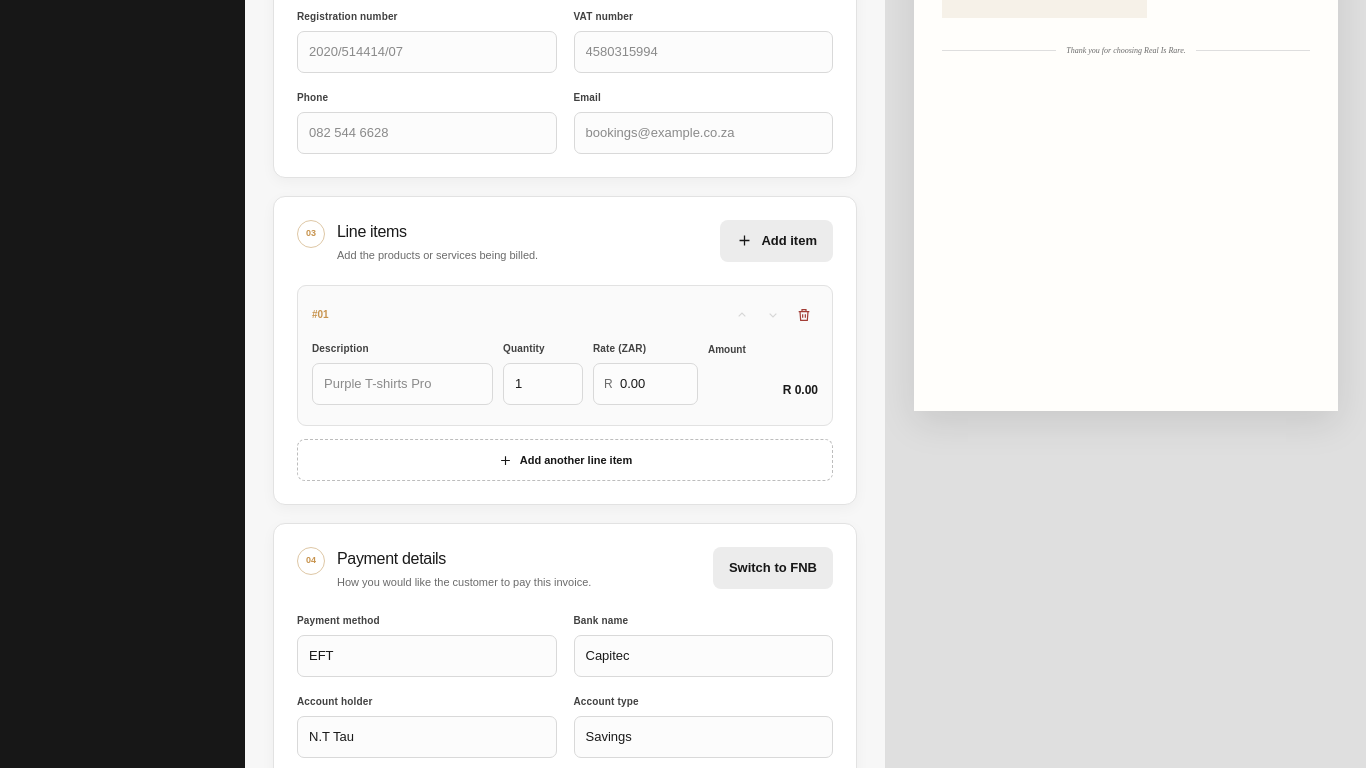
Test: invoice workspace › lets a rate be typed before formatting it as currency
The width and height of the screenshot is (1366, 768).
(page scrolled)
Replace the text in the number field labelled "Rate (ZAR) R" with "2" at coordinates (646, 384), box top-left (593, 363), bottom-right (698, 405)
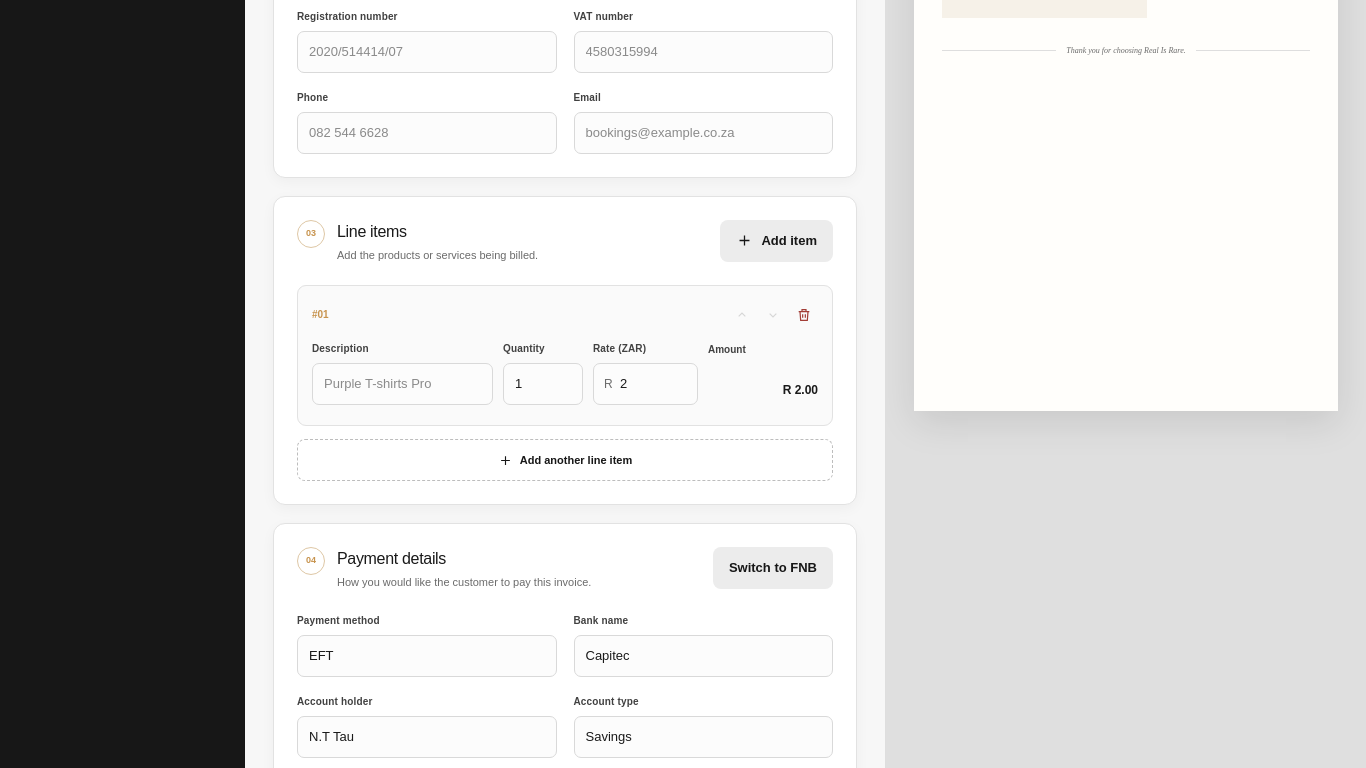
Replace the text in the number field labelled "Rate (ZAR) R" with "20" at coordinates (646, 384), box top-left (593, 363), bottom-right (698, 405)
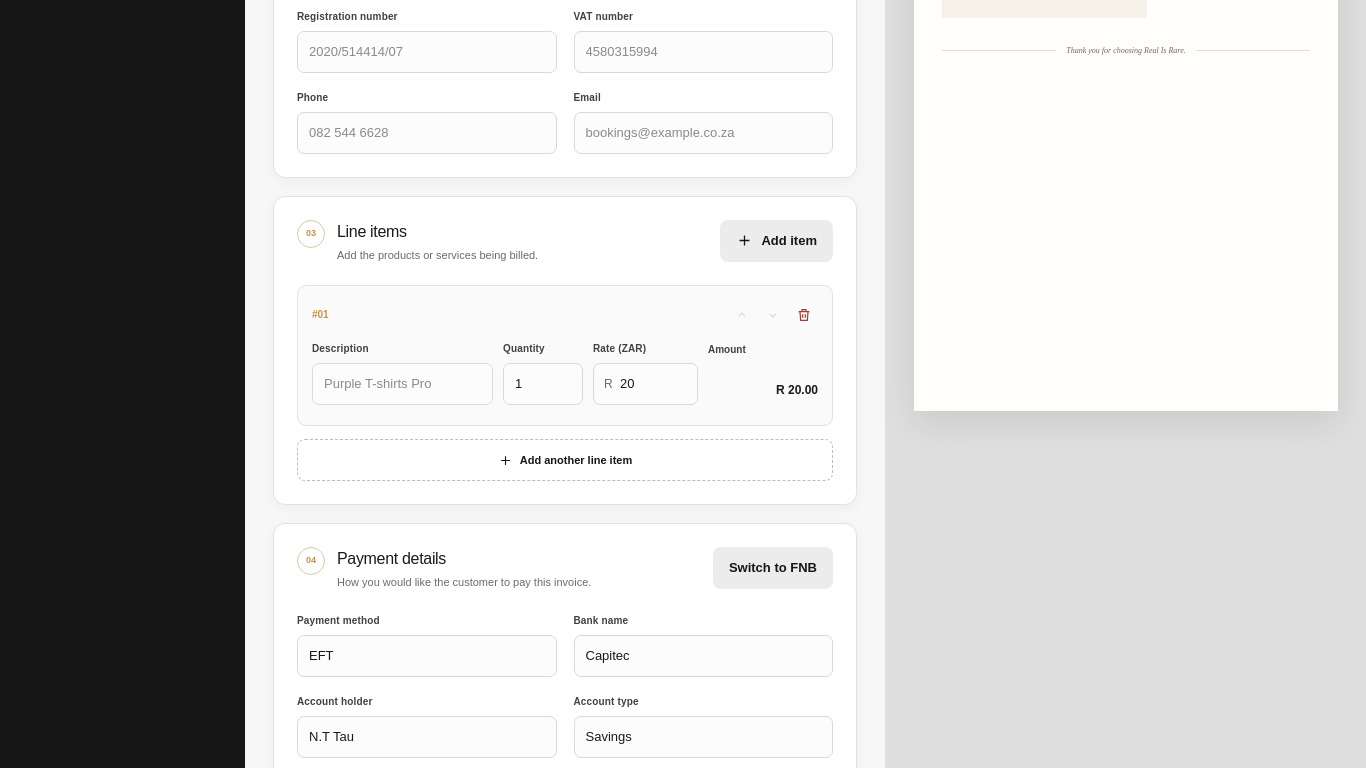
Leave the number field labelled "Rate (ZAR) R", box top-left (593, 363), bottom-right (698, 405)
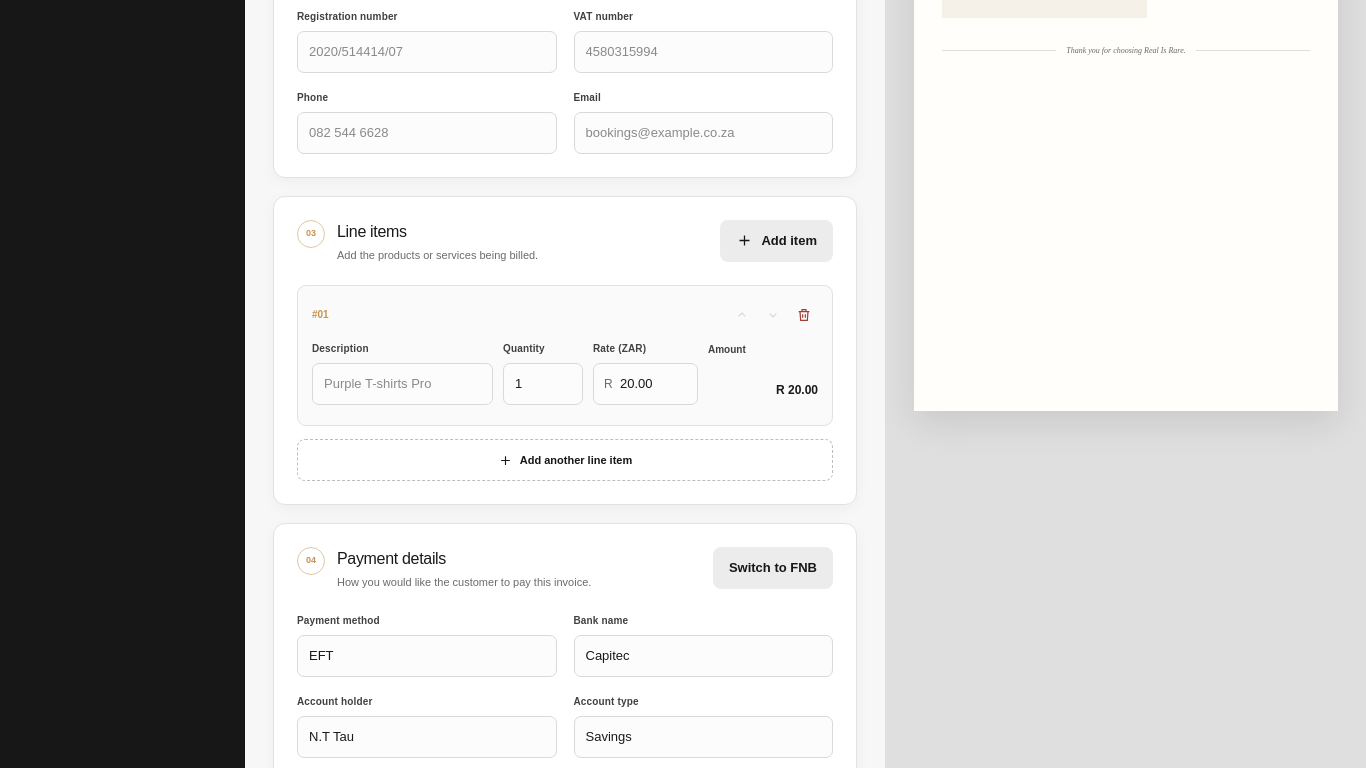
Result: the number field labelled "Rate (ZAR) R" holds "20" at top-left (593, 363), bottom-right (698, 405)
